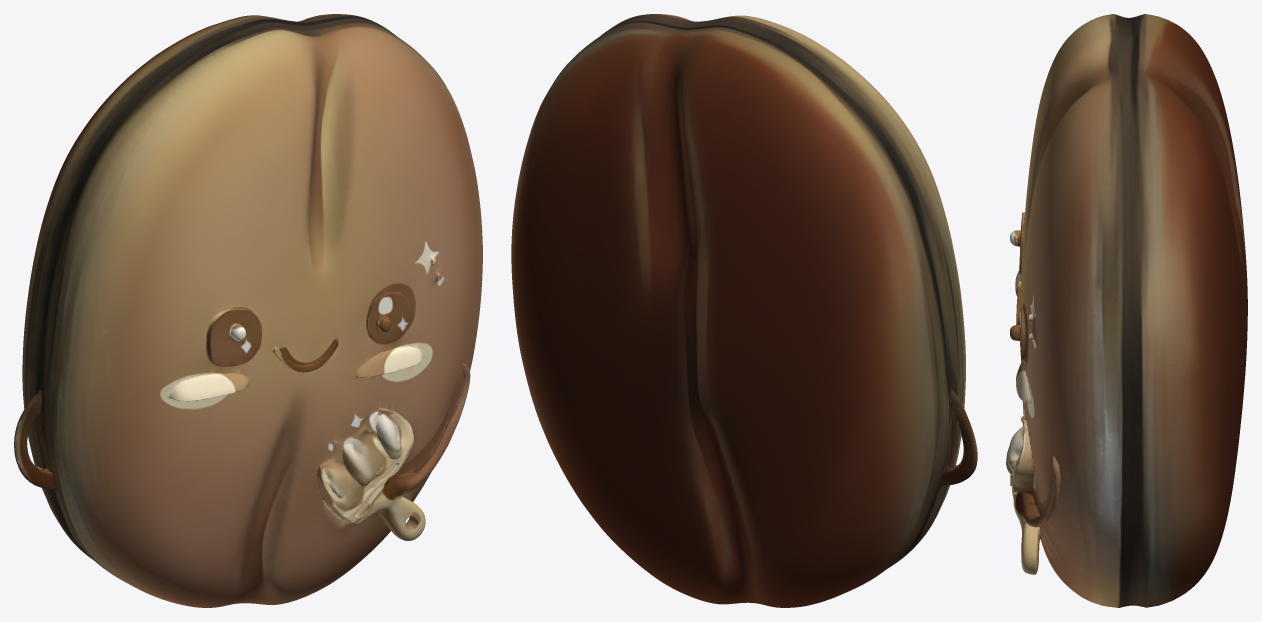
File: coffee.glb
The picture shows the model from 3 angles, left to right: view 1: azimuth 30°, elevation 25°; view 2: azimuth 150°, elevation 25°; view 3: azimuth 270°, elevation 25°; orthographic projection. The views are drawn at different scales.
Parts seen in each view (by area): view 1: model; view 2: model; view 3: model.
Boxes of the visible parts, x1=… form: model: x1=14, y1=14, x2=482, y2=607; model: x1=511, y1=14, x2=977, y2=607; model: x1=1006, y1=14, x2=1247, y2=607.
Size of the model in its own units: 1.58 by 1.9 by 0.7457.
1 material, 1 textured.
